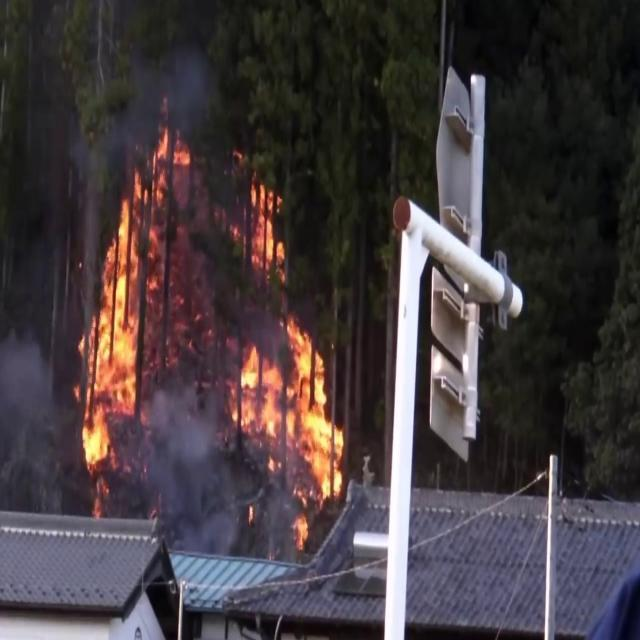Fire: (224, 170, 350, 530), (72, 138, 175, 475)
Smoke: (0, 308, 66, 514)
